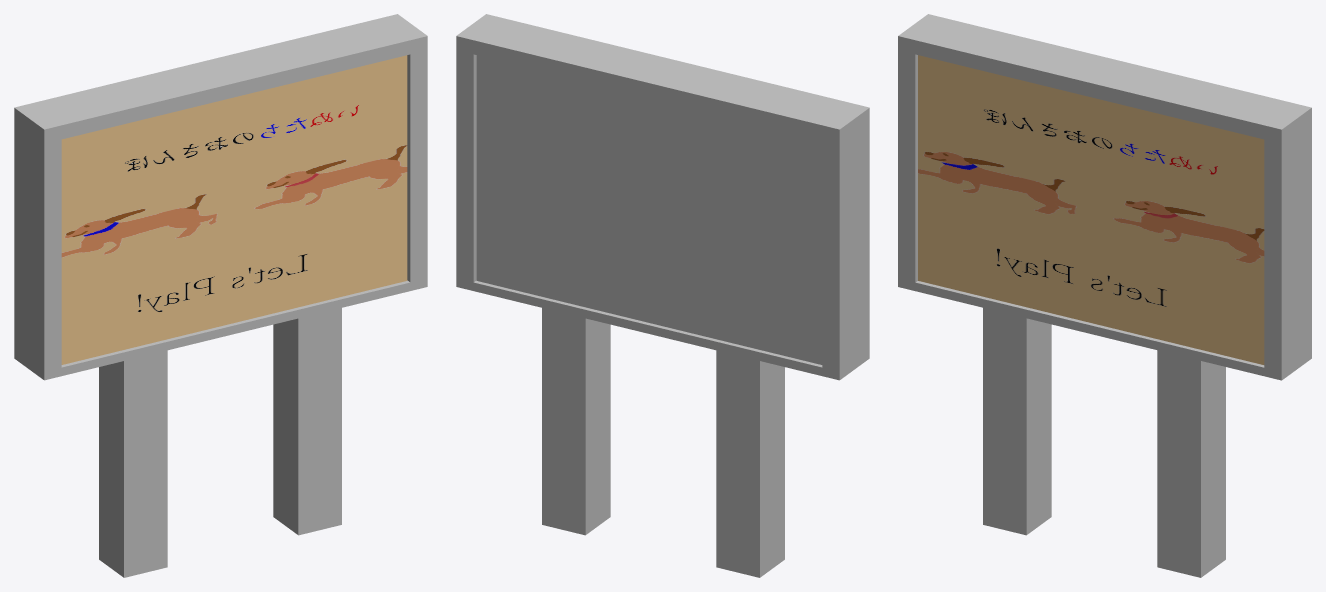
Rendered from GameTitleText.fbx.
3 renders of one model, left to right at view 1: azimuth 30°, elevation 25°; view 2: azimuth 150°, elevation 25°; view 3: azimuth 330°, elevation 25°, orthographic.
Parts seen in each view (by area): view 1: pCube3, polySurface1, pCube2, pCube1; view 2: pCube3, polySurface1, pCube2, pCube1; view 3: pCube3, polySurface1, pCube1, pCube2.
Boxes of the visible parts, x1,y1,x2,y2 form: pCube3: [61, 55, 407, 364]; polySurface1: [14, 14, 427, 380]; pCube2: [99, 350, 167, 577]; pCube1: [273, 308, 341, 535]; pCube3: [476, 55, 822, 364]; polySurface1: [456, 14, 869, 380]; pCube2: [716, 350, 784, 577]; pCube1: [542, 308, 610, 535]; pCube3: [918, 55, 1264, 364]; polySurface1: [898, 14, 1311, 380]; pCube1: [1157, 350, 1225, 577]; pCube2: [983, 308, 1051, 535].
Size of the model in its own units: 8.8 by 10.31 by 1.2.
